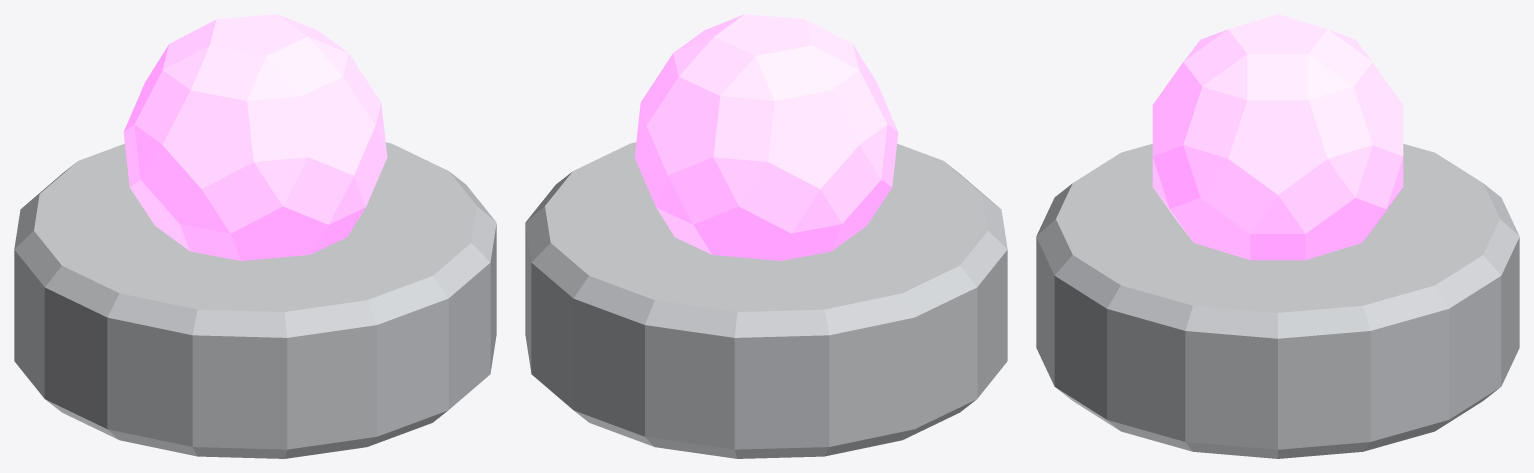
3 renders of one model, left to right at view 1: azimuth 30°, elevation 25°; view 2: azimuth 150°, elevation 25°; view 3: azimuth 270°, elevation 25°, orthographic.
Parts seen in each view (by area): view 1: HubVisual; view 2: HubVisual; view 3: HubVisual.
Part boxes in pixels (x1,y1,x2,y2): HubVisual: (14, 14, 496, 458); HubVisual: (525, 14, 1007, 458); HubVisual: (1036, 14, 1519, 458).
Bounding box in the file's own units: 0.09 × 0.0676 × 0.09.
